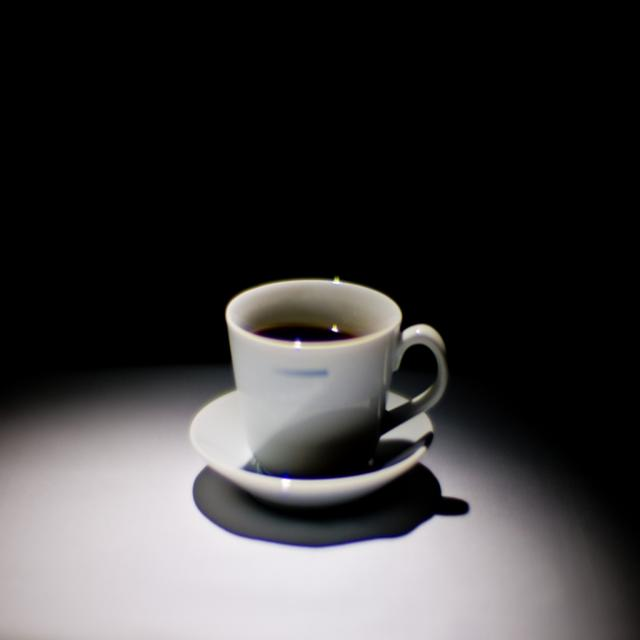Coffee: (256, 321, 360, 344)
Tea: (250, 319, 358, 347)
